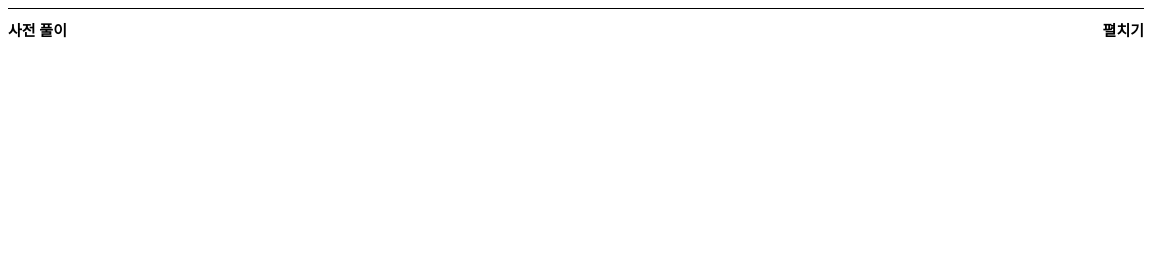
Test: DictTabs › says so when a language has no translation
Click the button "사전 풀이 펼치기".
click(37, 31)  # box x1=8 y1=9 x2=1144 y2=53
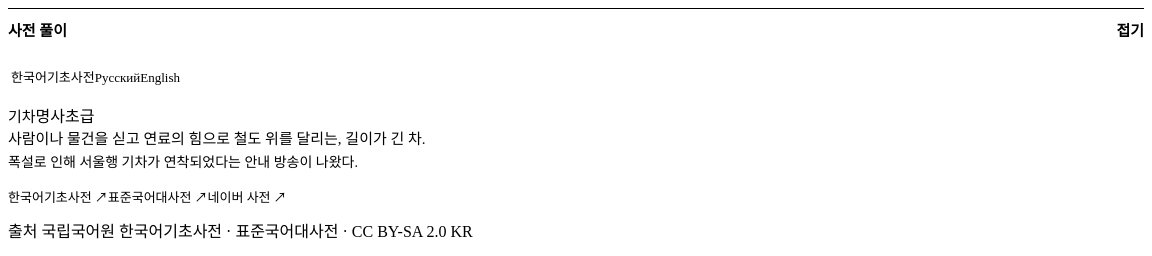
Expected: the button "사전 풀이 접기" is expanded, x1=8 y1=9 x2=1144 y2=53
Click the tab "English".
click(160, 78)  # box x1=140 y1=56 x2=180 y2=100
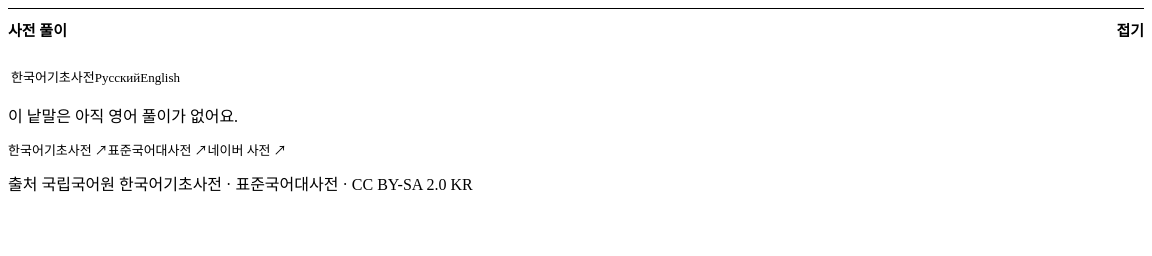
Expected: the text "이 낱말은 아직 영어 풀이가 없어요." is shown, x1=8 y1=108 x2=238 y2=125
